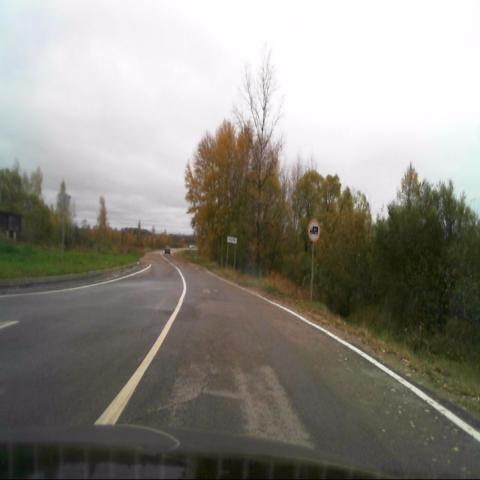3_4: (308, 219, 320, 243)
